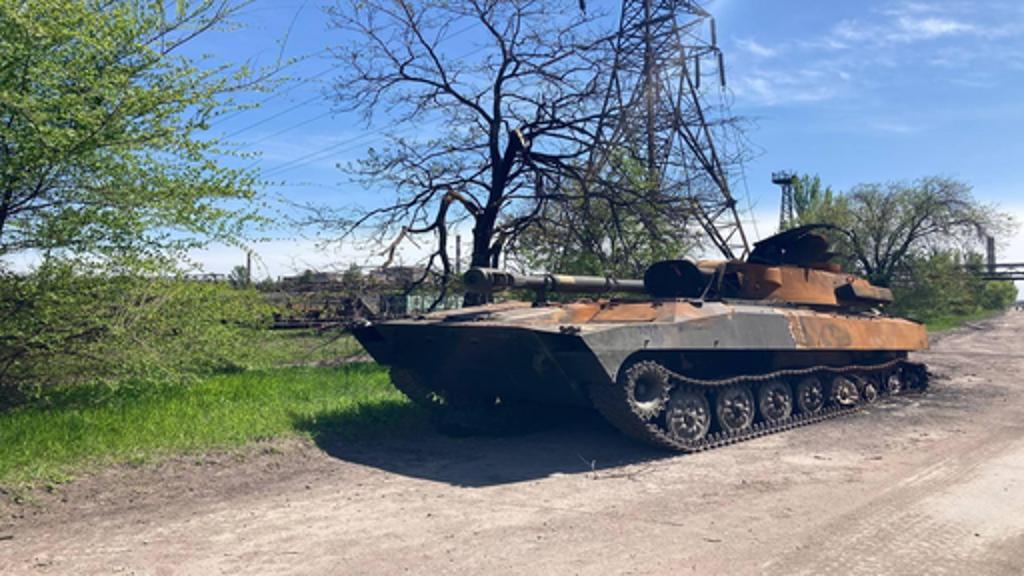ART: (348, 222, 934, 454)
